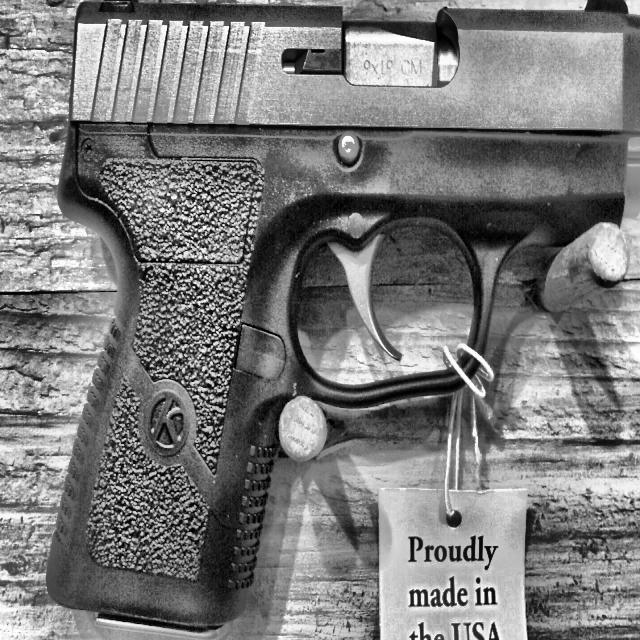Kahr: (44, 0, 640, 640)
